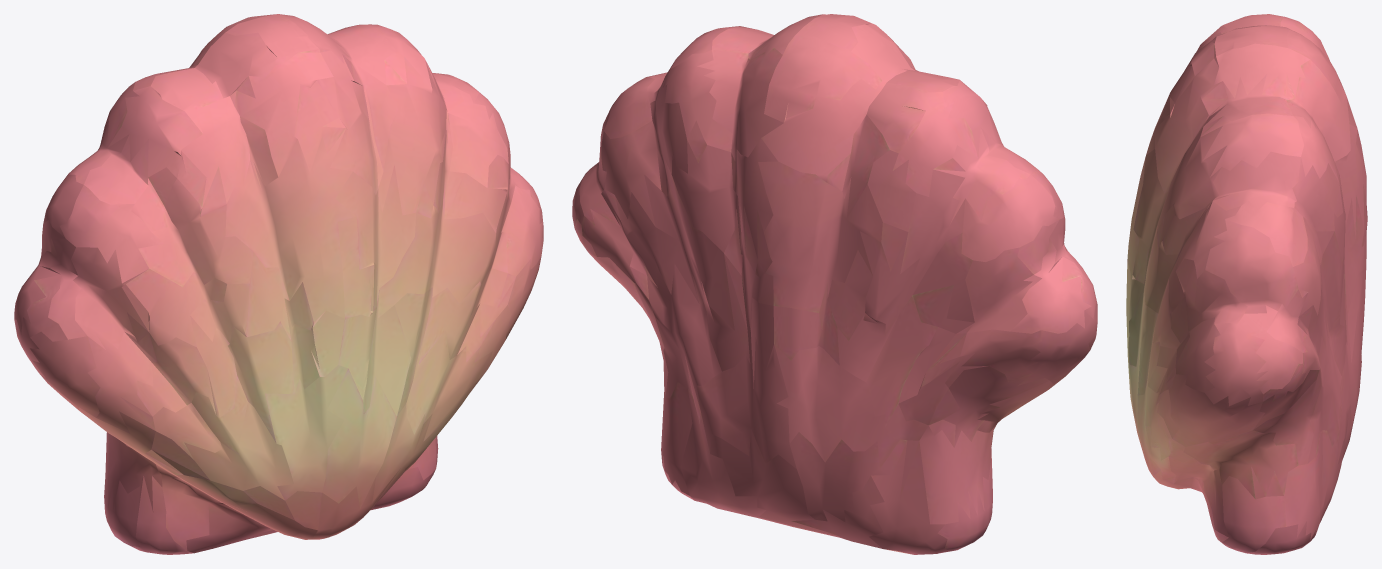
File: home_lamp.fbx
3 views of the same model, side by side, from view 1: azimuth 30°, elevation 25°; view 2: azimuth 150°, elevation 25°; view 3: azimuth 270°, elevation 25° (orthographic). The views are drawn at different scales.
Parts seen in each view (by area): view 1: Mesh_0; view 2: Mesh_0; view 3: Mesh_0.
Boxes of the visible parts, box(x1,y1,x2,y2) form: Mesh_0: box(14, 14, 543, 554); Mesh_0: box(572, 14, 1097, 554); Mesh_0: box(1126, 14, 1367, 554).
Size of the model in its own units: 1.9 by 1.75 by 0.8325.
Materials: 1 (1 with a texture image).
